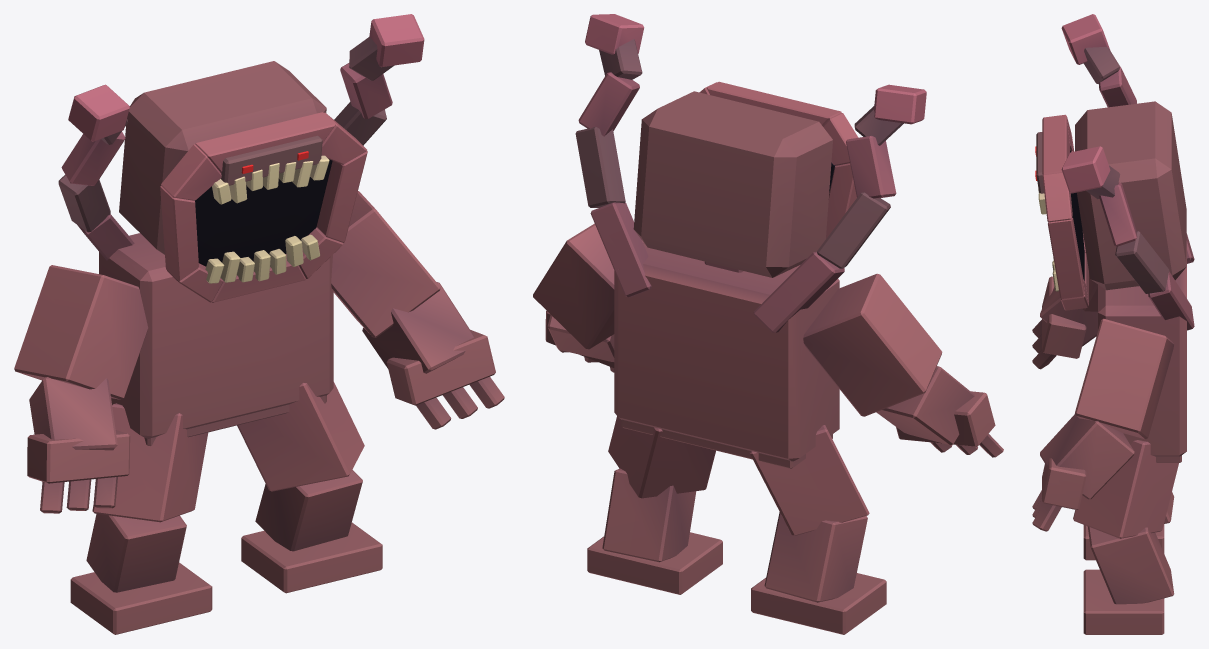
Rendered from Parasite_Proposed.glb.
3 renders of one model, left to right at view 1: azimuth 30°, elevation 25°; view 2: azimuth 150°, elevation 25°; view 3: azimuth 270°, elevation 25°, orthographic. The views are drawn at different scales.
Parts seen in each view (by area): view 1: Head.001, Body.001, ArmR.001, LegL.001, LegR.001, ArmL.001, TendrilR.001, TendrilL.001; view 2: Body.001, Head.001, ArmR.001, LegR.001, LegL.001, TendrilL.001, TendrilR.001, ArmL.001; view 3: Head.001, ArmL.001, LegL.001, TendrilL.001, Body.001, ArmR.001, TendrilR.001, LegR.001.
Part boxes in pixels (x1,y1,x2,y2): Head.001: (119,61,367,302); Body.001: (99,233,333,445); ArmR.001: (14,265,148,513); LegL.001: (237,382,382,593); LegR.001: (70,403,212,634); ArmL.001: (331,191,504,429); TendrilR.001: (58,84,134,260); TendrilL.001: (334,14,424,145); Body.001: (614,243,839,468); Head.001: (633,81,858,277); ArmR.001: (803,273,1003,457); LegR.001: (749,425,886,634); LegL.001: (587,416,722,594); TendrilL.001: (575,14,651,297); TendrilR.001: (753,84,926,332); ArmL.001: (533,223,643,372); Head.001: (1036,101,1186,310); ArmL.001: (1032,318,1173,531); LegL.001: (1073,440,1178,634); TendrilL.001: (1061,146,1194,330); Body.001: (1098,247,1186,462); ArmR.001: (1032,273,1097,369); TendrilR.001: (1061,14,1194,263); LegR.001: (1083,492,1174,560).
Bounding box in the file's own units: 5.68 × 6.37 × 1.91.
